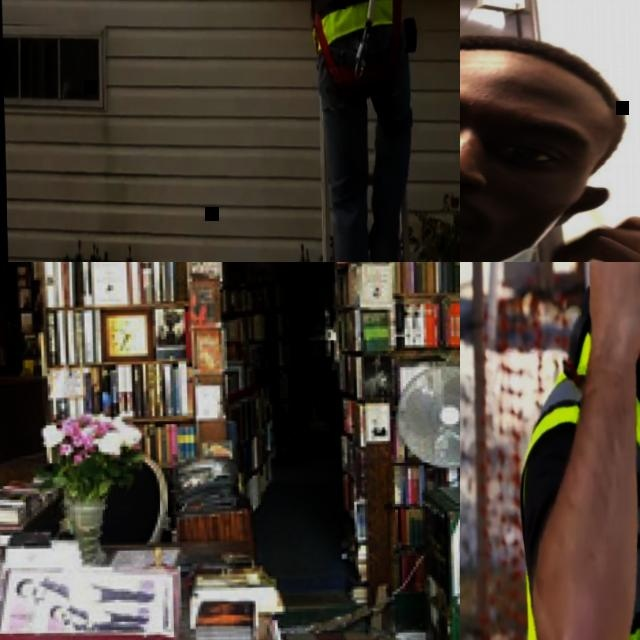NO-Hardhat: (460, 28, 620, 109)
NO-Mask: (460, 146, 582, 262)
Person: (512, 262, 640, 640), (460, 23, 640, 262), (290, 0, 424, 262)
Safety Vest: (516, 314, 640, 640)
